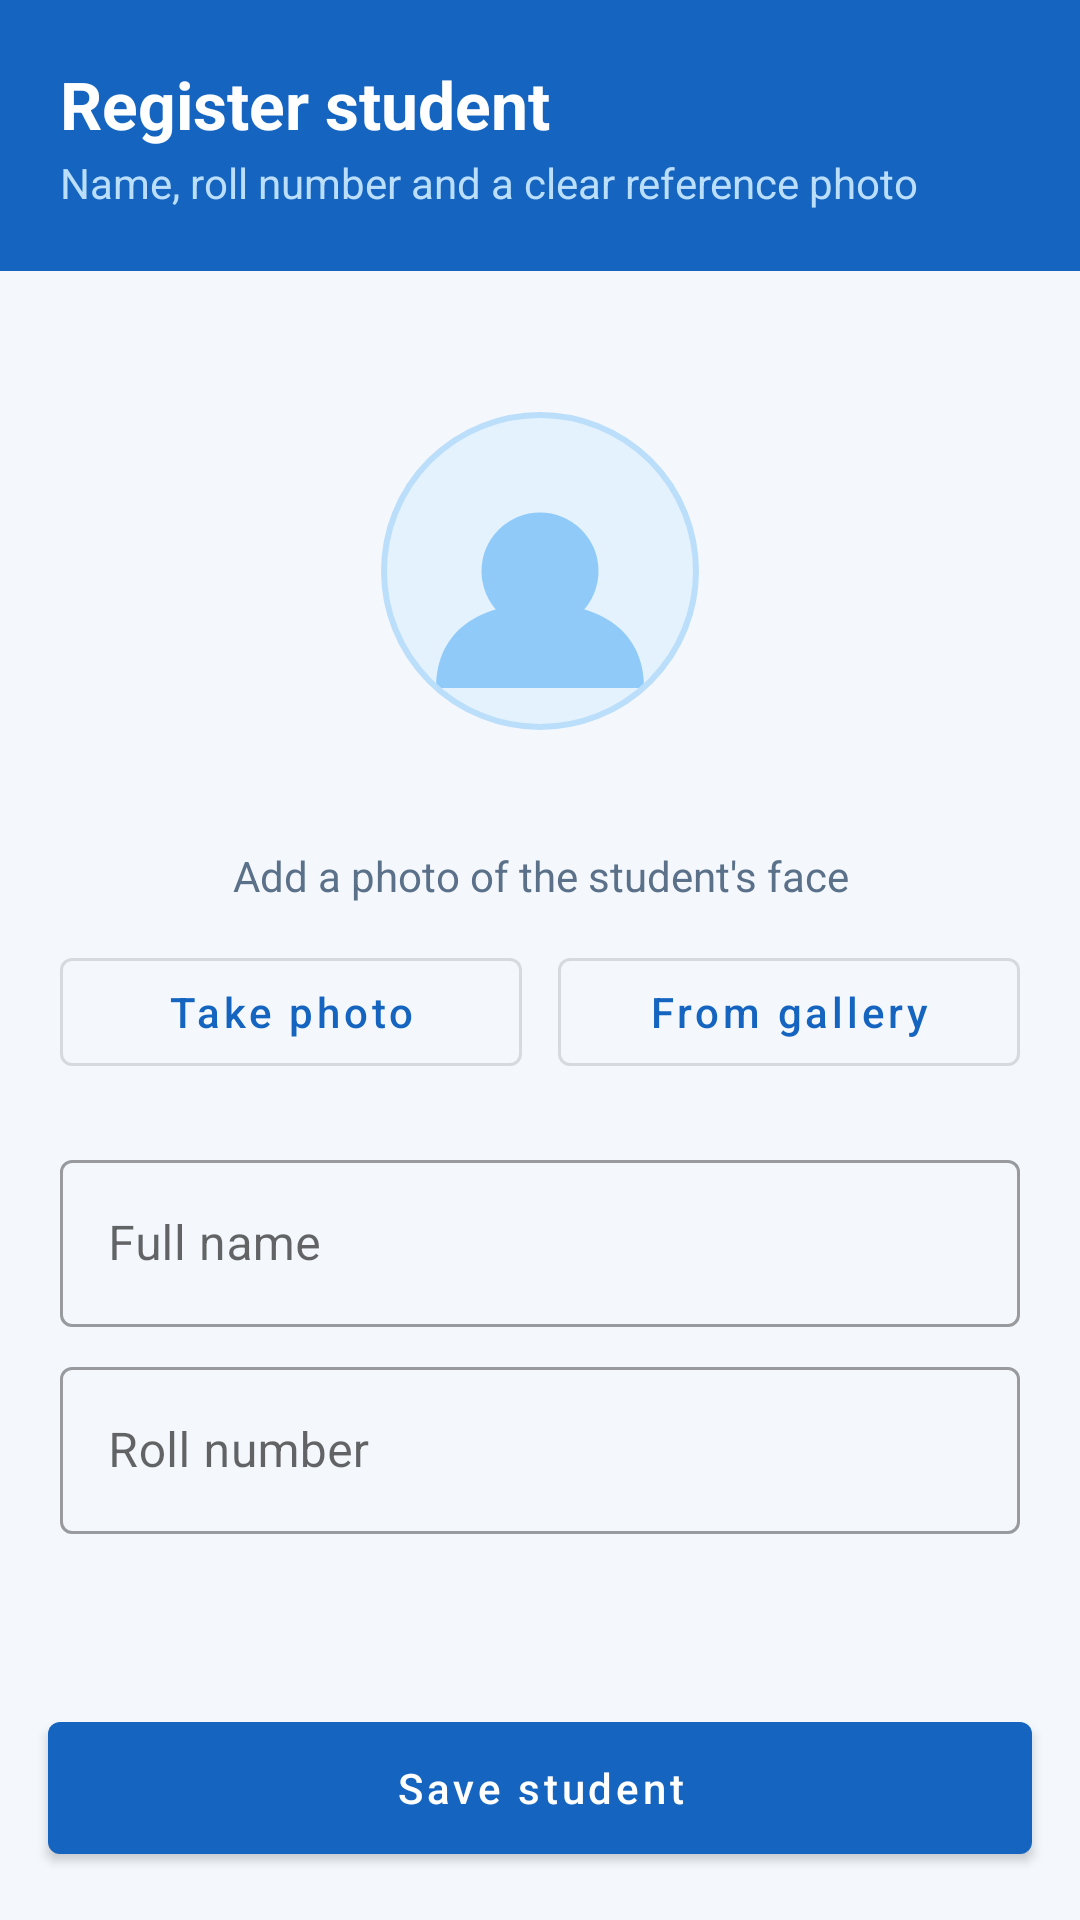

Where icons sit on this 1080px x 1920px app screen, as box(x1, y1, x2, y2):
person: box(381, 412, 699, 730)
